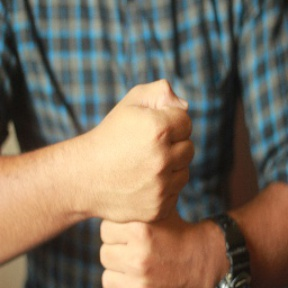G: (83, 73, 201, 288)
